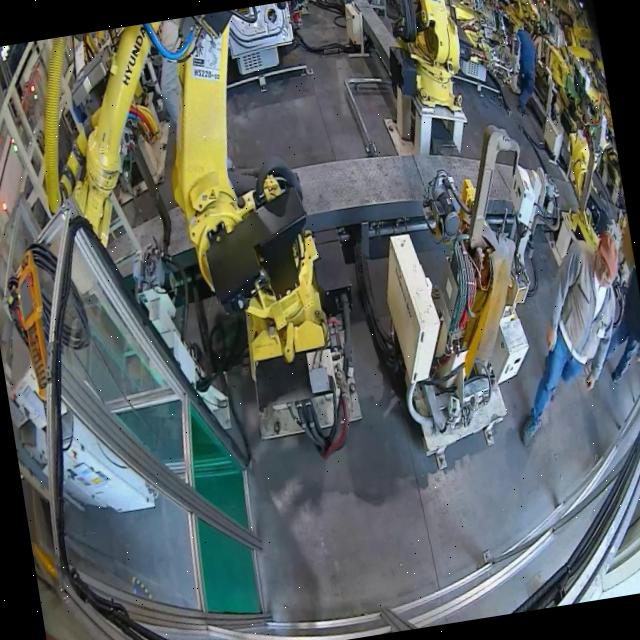Person: (491, 228, 640, 448), (150, 18, 200, 134), (502, 25, 546, 116)
